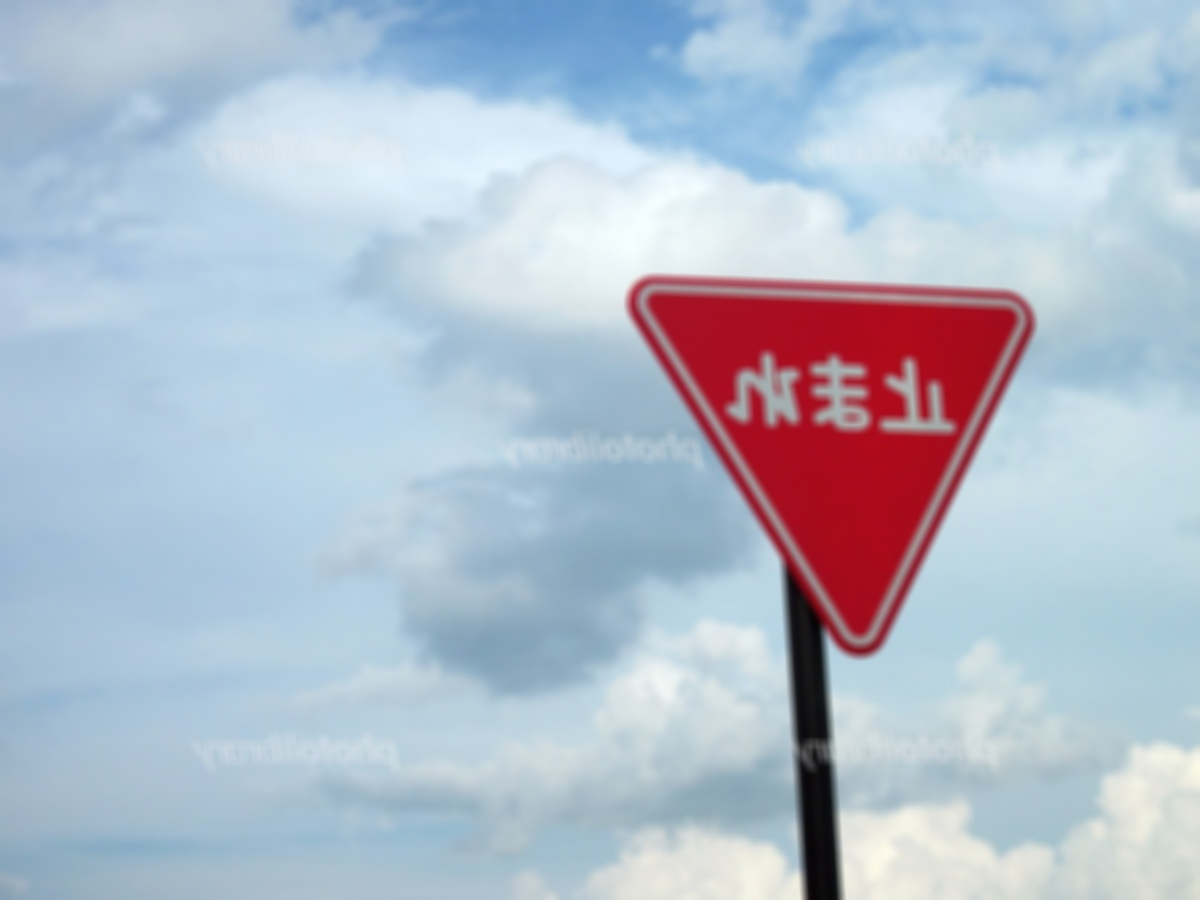Regulatory_sign_triangle: (627, 250, 1054, 693)
